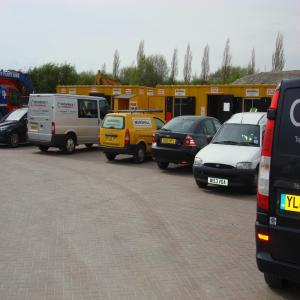Vehicle-registration-plate: (281, 194, 300, 213), (208, 179, 229, 187), (162, 140, 176, 146), (108, 136, 118, 142)
